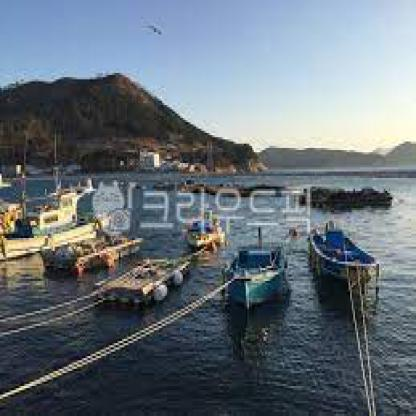fish-b: (0, 189, 103, 255), (222, 221, 292, 315), (40, 212, 146, 272), (307, 216, 384, 296)
